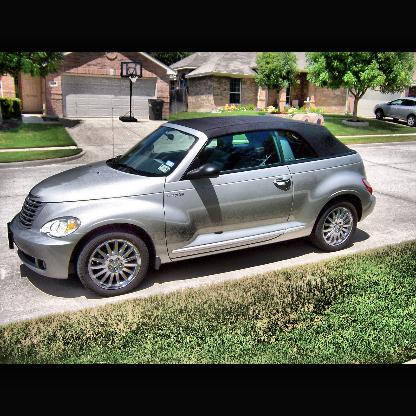Chrysler PT Cruiser Convertible 2008: (9, 116, 377, 298)
